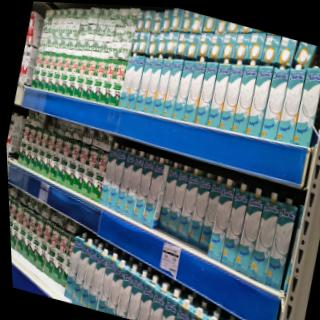Milk: (244, 185, 287, 288), (260, 192, 302, 292), (229, 182, 270, 280), (215, 176, 255, 270), (203, 172, 241, 263), (138, 151, 173, 232), (195, 170, 227, 257), (128, 148, 160, 226), (120, 145, 150, 222), (102, 139, 132, 215), (112, 141, 141, 217), (67, 233, 96, 306), (85, 244, 112, 311), (97, 140, 123, 209), (105, 250, 129, 316), (48, 228, 73, 289), (33, 217, 57, 273), (87, 148, 111, 203), (78, 143, 102, 198), (106, 56, 130, 107), (44, 132, 67, 184), (70, 141, 92, 193), (19, 210, 41, 261), (87, 55, 109, 105), (62, 139, 83, 191), (38, 128, 59, 178), (18, 44, 40, 89), (70, 55, 91, 102), (32, 128, 52, 176), (62, 52, 83, 97), (55, 138, 75, 183), (9, 201, 27, 250), (20, 124, 39, 169), (48, 53, 67, 93), (29, 49, 46, 91), (99, 130, 115, 155), (27, 10, 45, 32), (25, 27, 43, 48), (90, 129, 106, 150), (141, 8, 156, 30), (160, 10, 174, 33), (71, 122, 86, 143), (130, 31, 143, 55), (146, 34, 160, 56), (33, 112, 47, 133), (79, 127, 94, 145), (62, 122, 76, 141), (55, 119, 68, 136), (68, 23, 81, 40), (97, 7, 109, 25), (84, 24, 97, 40), (43, 7, 54, 23), (57, 8, 68, 24), (24, 110, 35, 125)
